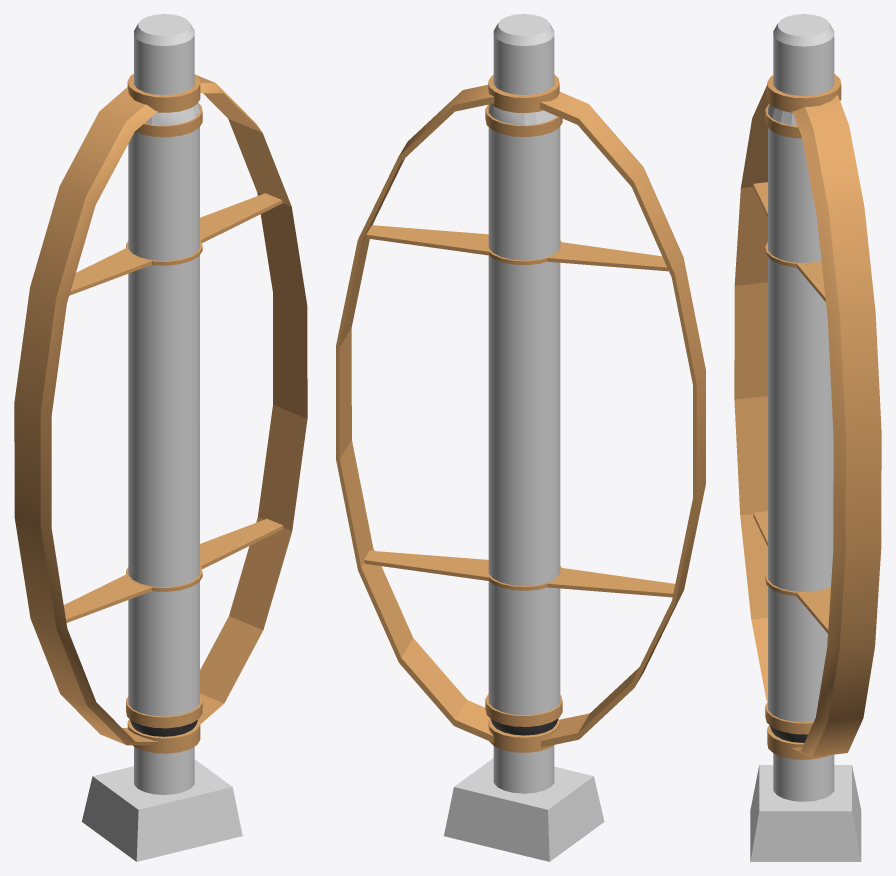
File: wind turbine 4 anim.fbx
3 views of the same model, side by side, from view 1: azimuth 30°, elevation 25°; view 2: azimuth 150°, elevation 25°; view 3: azimuth 270°, elevation 25° (orthographic).
Parts seen in each view (by area): view 1: Cylinder016, Cylinder023; view 2: Cylinder016, Cylinder023; view 3: Cylinder023, Cylinder016.
Part boxes in pixels (x1,y1,x2,y2): Cylinder016: (82, 14, 242, 861); Cylinder023: (14, 74, 307, 753); Cylinder016: (444, 14, 604, 861); Cylinder023: (336, 74, 705, 752); Cylinder023: (734, 74, 881, 759); Cylinder016: (750, 14, 861, 861).
Size of the model in its own units: 376 by 905 by 149.
